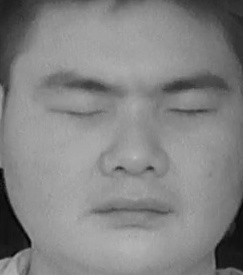blink: (53, 93, 106, 129), (167, 94, 213, 129)
mouth: (89, 191, 170, 231)
